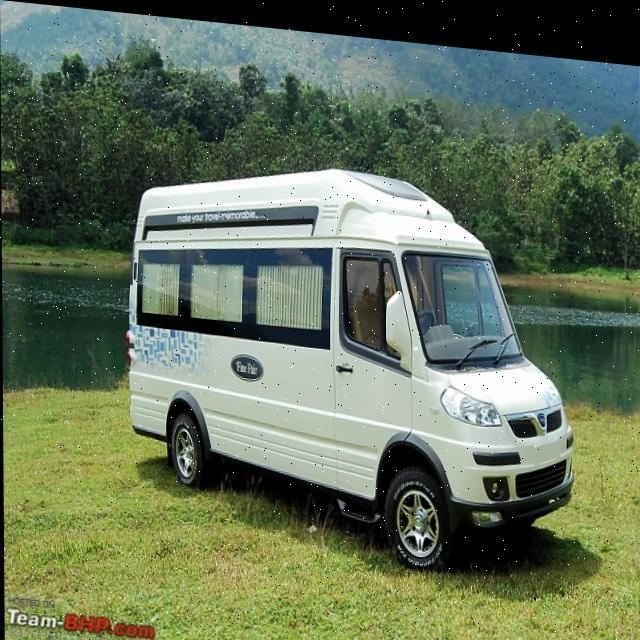Ambulance: (120, 138, 578, 580)
